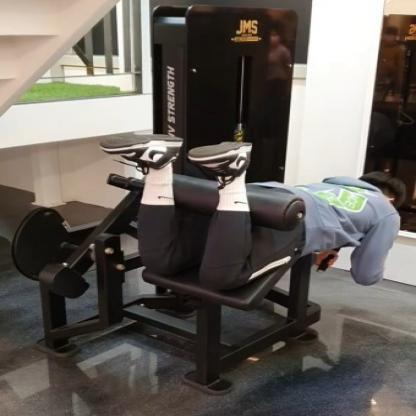reg curl machine: (13, 2, 411, 399)
